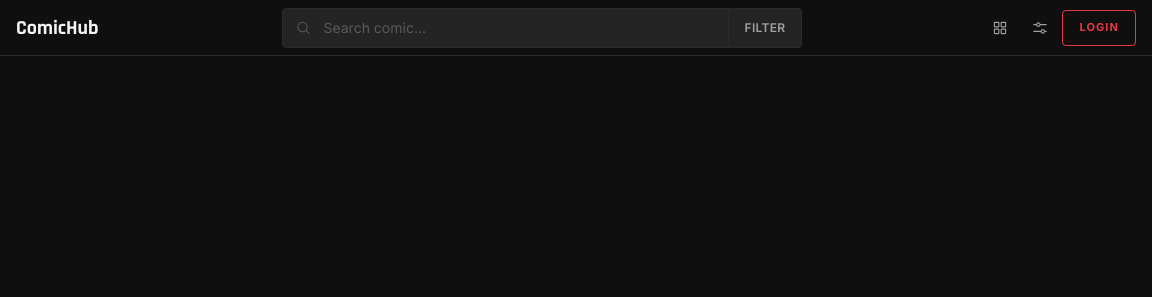
Test case: Navbar › opens browse dropdown when Browse button is clicked
Click the button named "browse menu" at (1000, 28), box [982,10,1018,46]
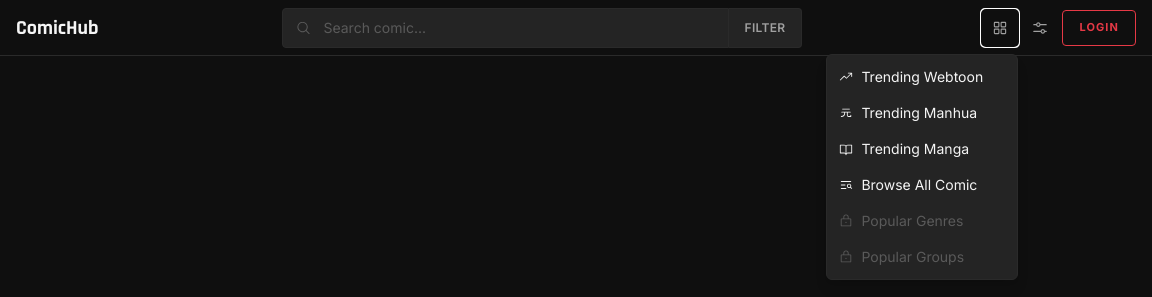
Result: the link "Trending Manga" is shown at [839,140,969,156]
